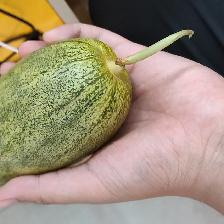gua: (41, 57, 125, 121)
